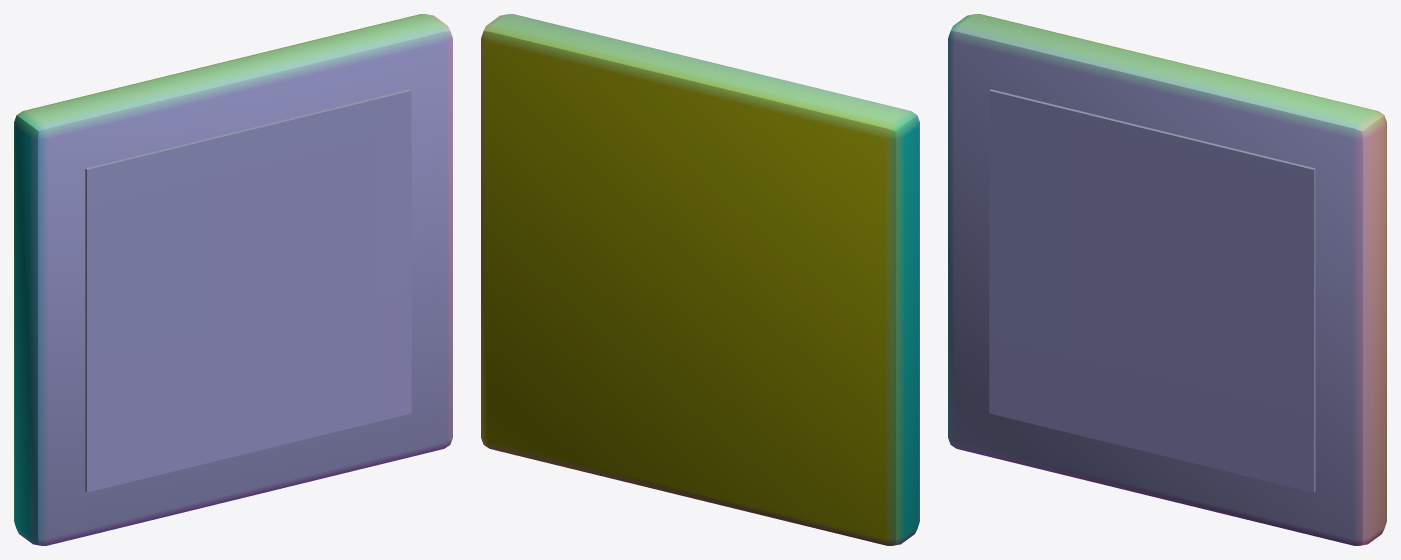
Rendered from picture_frame.glb.
3 views of the same model, side by side, from view 1: azimuth 30°, elevation 25°; view 2: azimuth 150°, elevation 25°; view 3: azimuth 330°, elevation 25° (orthographic).
Parts seen in each view (by area): view 1: parlour_picture_frame; view 2: parlour_picture_frame; view 3: parlour_picture_frame.
Boxes of the visible parts, <box> form: parlour_picture_frame: <box>14,14,452,545</box>; parlour_picture_frame: <box>481,14,919,545</box>; parlour_picture_frame: <box>948,14,1386,545</box>.
Size of the model in its own units: 0.52 by 0.5 by 0.064.
